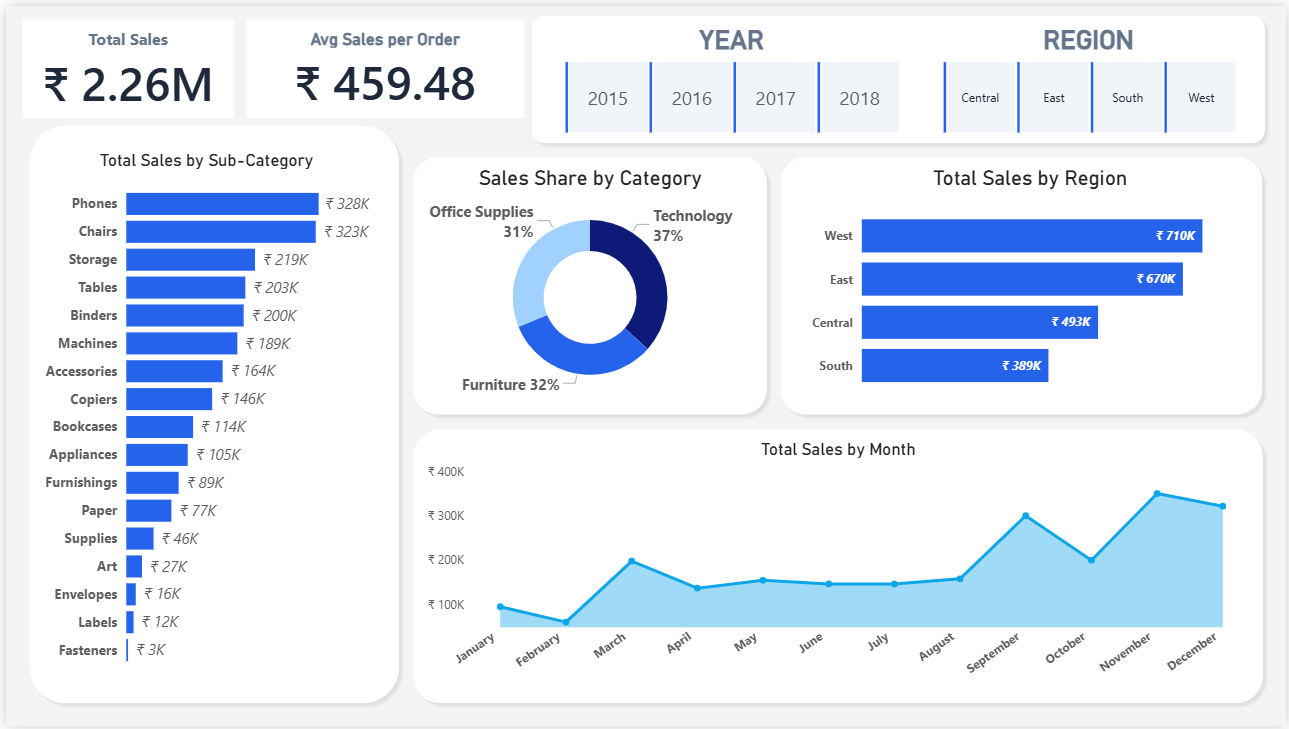

Layout of this report page (visuals, bound fields, positions):
{"tool":"powerbi","page":{"name":"Page 1","canvas":[1280,720],"ordinal":0},"visuals":[{"type":"shape","box":[518.2,2.7,747.3,141.8],"z":0},{"type":"shape","box":[400,416,864,288],"z":1000},{"type":"shape","box":[400,144,368,272],"z":2000},{"type":"shape","box":[768,144,496,272],"z":3000},{"type":"shape","box":[16,112,384,592],"z":4000},{"type":"card","title":"Total Sales","fields":{"Values":["train.Total Sales"]},"box":[16.7,13.3,211.7,98.3],"z":5000},{"type":"card","title":"Avg Sales per Order","fields":{"Values":["train.Avg Sales per Order"]},"box":[240,13.3,278.3,98.3],"z":6000},{"type":"areaChart","fields":{"Category":["train.Order Date.Variation.Date Hierarchy.Month"],"Y":["train.Total Sales"]},"box":[416,432,832,256],"z":7000},{"type":"donutChart","title":"Sales Share by Category","fields":{"Category":["train.Category"],"Y":["train.Total Sales"]},"box":[416,160,336,240],"z":8000},{"type":"barChart","fields":{"Category":["train.Sub-Category"],"Y":["train.Total Sales"]},"box":[32,144,336,528],"z":9000},{"type":"clusteredBarChart","fields":{"Category":["train.Region"],"Y":["train.Total Sales"]},"box":[800,160,448,240],"z":10000},{"type":"slicer","title":"YEAR","fields":{"Values":["train.Order Date.Variation.Date Hierarchy.Year"]},"box":[538.2,13.6,373.6,120],"z":11000},{"type":"slicer","title":"REGION","fields":{"Values":["train.Region"]},"box":[911.8,13.6,342.7,120],"z":12000}]}

Visuals, with their boxes in screenshot pixels (x1, y1, x2, y2), scaled from the page's 1280x720 canvas onto the 1289x729 screenshot:
shape: box=[522, 3, 1274, 146]
shape: box=[403, 421, 1273, 713]
shape: box=[403, 146, 773, 421]
shape: box=[773, 146, 1273, 421]
shape: box=[16, 113, 403, 713]
"Total Sales" card: box=[17, 13, 230, 113]
"Avg Sales per Order" card: box=[242, 13, 522, 113]
areaChart - train.Order Date.Variation.Date Hierarchy.Month x train.Total Sales: box=[419, 437, 1257, 697]
"Sales Share by Category" donutChart: box=[419, 162, 757, 405]
barChart - train.Sub-Category x train.Total Sales: box=[32, 146, 371, 680]
clusteredBarChart - train.Region x train.Total Sales: box=[806, 162, 1257, 405]
"YEAR" slicer: box=[542, 14, 918, 135]
"REGION" slicer: box=[918, 14, 1263, 135]
